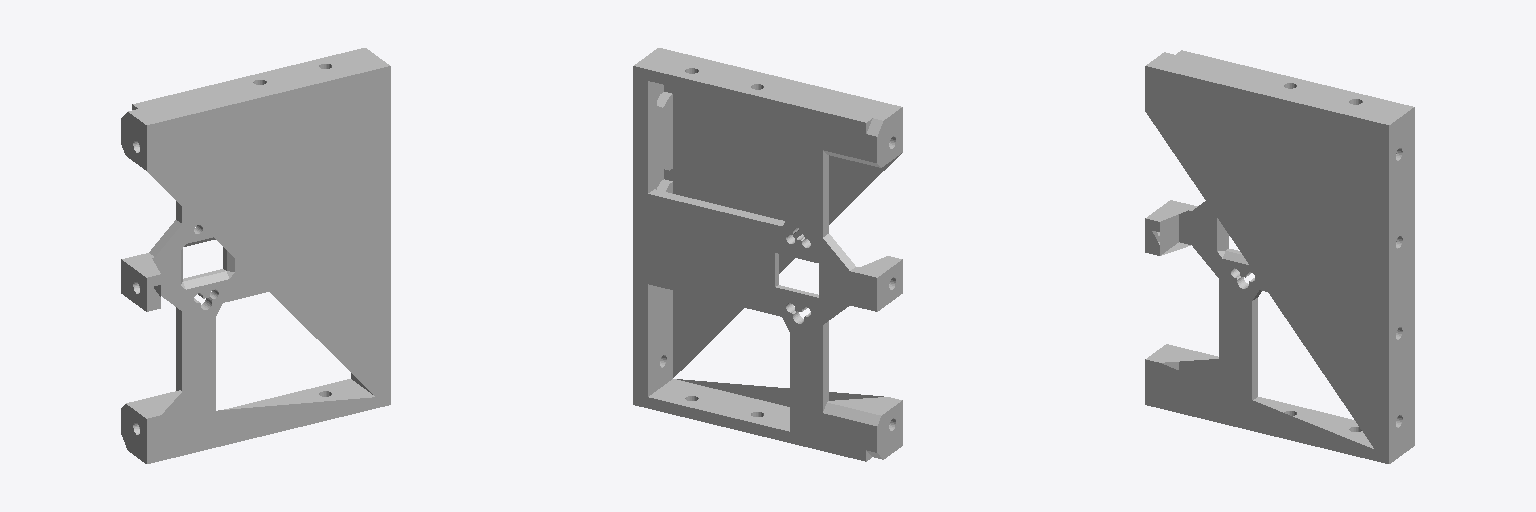
Rendered from RS_MotorBase_v1.obj.
3 renders of one model, left to right at view 1: azimuth 30°, elevation 25°; view 2: azimuth 150°, elevation 25°; view 3: azimuth 330°, elevation 25°, orthographic.
Visible parts, largest first — view 1: Mesh1 _____54_1 Model; view 2: Mesh1 _____54_1 Model; view 3: Mesh1 _____54_1 Model.
Part boxes in pixels (x1,y1,x2,y2): Mesh1 _____54_1 Model: (121,48,390,463); Mesh1 _____54_1 Model: (633,48,902,461); Mesh1 _____54_1 Model: (1145,50,1414,463).
Bounding box in the file's own units: 67 × 89 × 12.